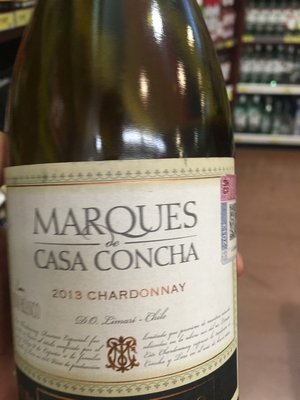marques de casa concha chardonnay: (6, 16, 244, 400)
